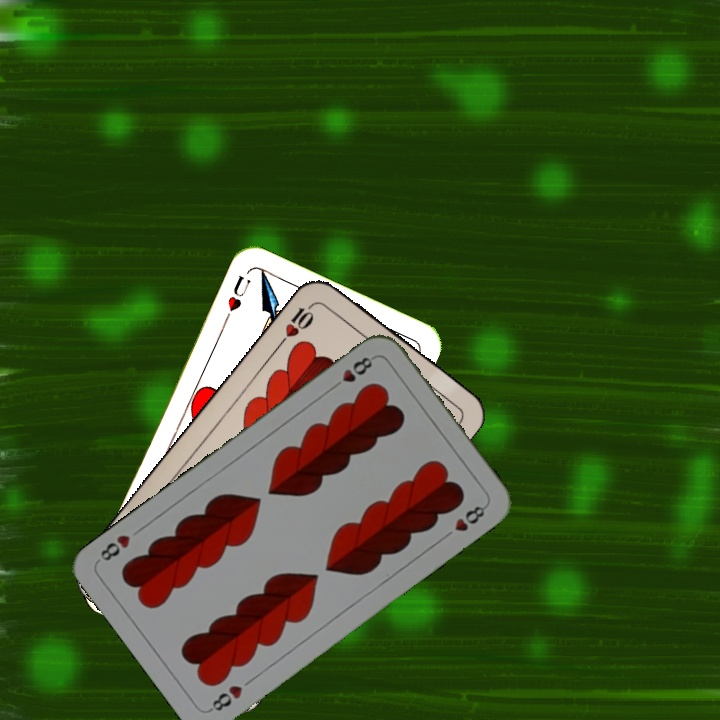H10: (275, 298, 318, 348)
H8: (327, 352, 378, 393), (205, 681, 245, 715)
HU: (220, 271, 253, 324)
